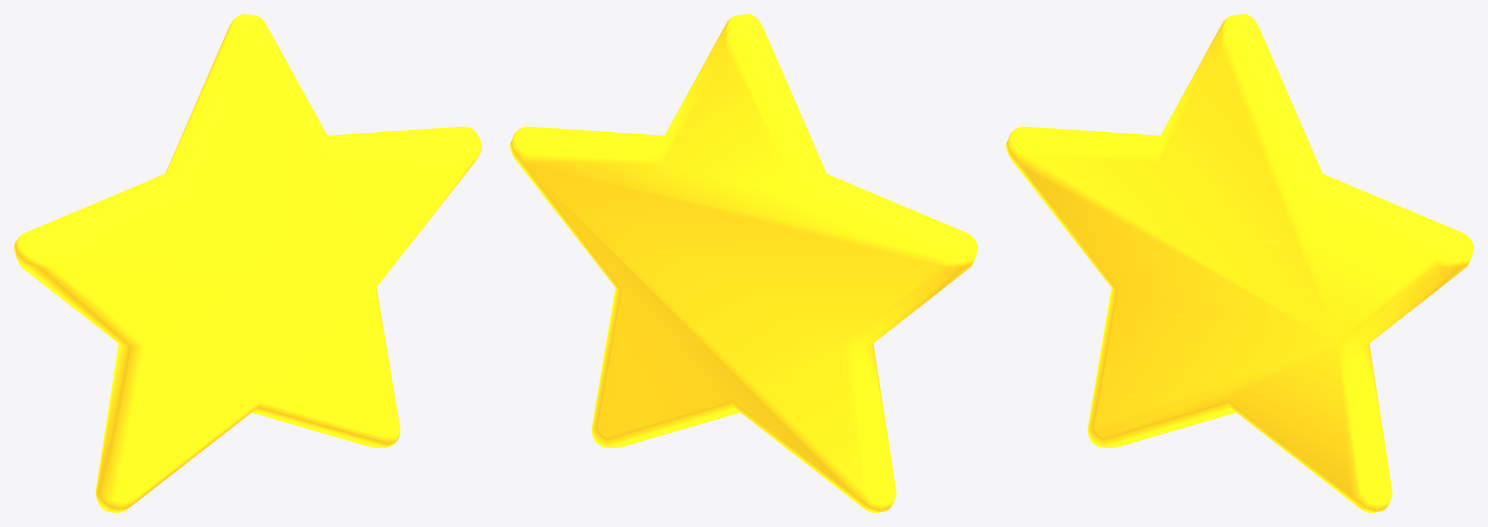
Rendered from victory_star.fbx.
3 views of the same model, side by side, from view 1: azimuth 30°, elevation 25°; view 2: azimuth 150°, elevation 25°; view 3: azimuth 330°, elevation 25° (orthographic).
Parts seen in each view (by area): view 1: Plane; view 2: Plane; view 3: Plane.
Boxes of the visible parts, left/top/right/bottom form: Plane: left=14, top=14, right=481, bottom=512; Plane: left=510, top=14, right=977, bottom=512; Plane: left=1006, top=14, right=1473, bottom=512.
Size of the model in its own units: 441 by 423 by 40.
